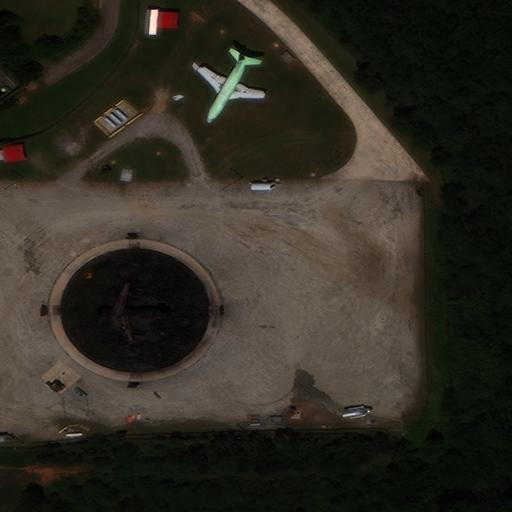Medium Civil Transport: (196, 53, 264, 123)
